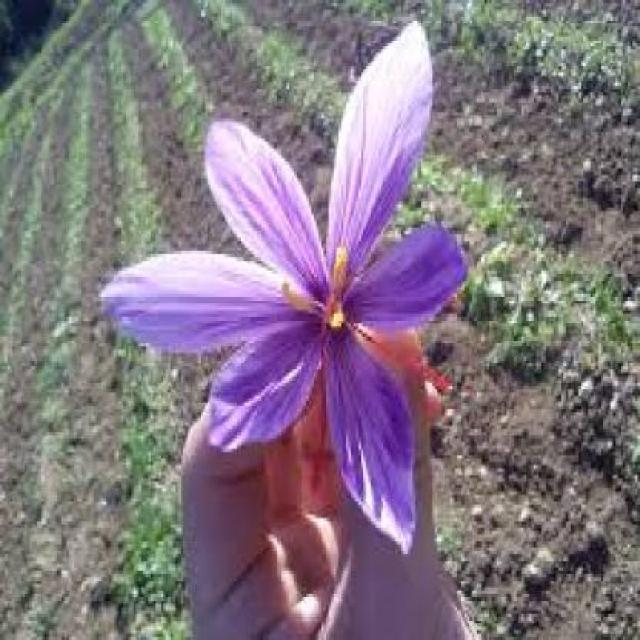saffron open: (102, 22, 466, 551)
